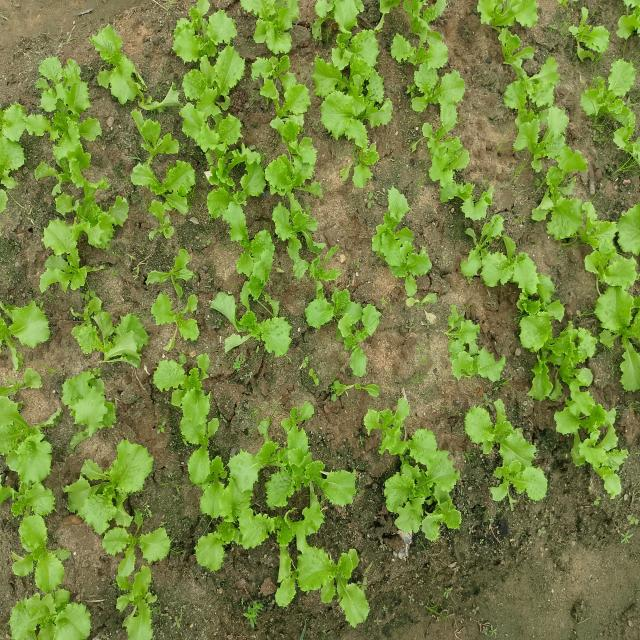Lettuce: (462, 401, 547, 509), (180, 454, 261, 561), (303, 42, 388, 142), (38, 63, 96, 189), (175, 2, 247, 98), (40, 181, 130, 255), (157, 358, 230, 444), (513, 258, 575, 358), (122, 113, 194, 199), (87, 23, 150, 117), (3, 511, 73, 591), (76, 433, 158, 500), (0, 388, 59, 481), (375, 0, 458, 61), (218, 286, 290, 354), (102, 512, 176, 576), (251, 53, 318, 122), (588, 206, 640, 290), (409, 65, 473, 132), (257, 132, 324, 196), (84, 292, 144, 363), (586, 286, 639, 366), (441, 313, 503, 381), (361, 395, 422, 463), (378, 205, 432, 278), (5, 597, 96, 640), (422, 134, 478, 200), (312, 2, 378, 58), (520, 104, 581, 163), (582, 59, 636, 125), (181, 110, 247, 163), (224, 204, 272, 270), (150, 290, 205, 346), (471, 0, 536, 46), (2, 298, 51, 356), (539, 173, 582, 239), (41, 227, 88, 285), (308, 545, 367, 590), (507, 56, 556, 108), (65, 374, 114, 425), (564, 15, 612, 62), (560, 366, 591, 438), (276, 400, 320, 450), (278, 199, 320, 247), (462, 229, 509, 270), (1, 103, 22, 193)
